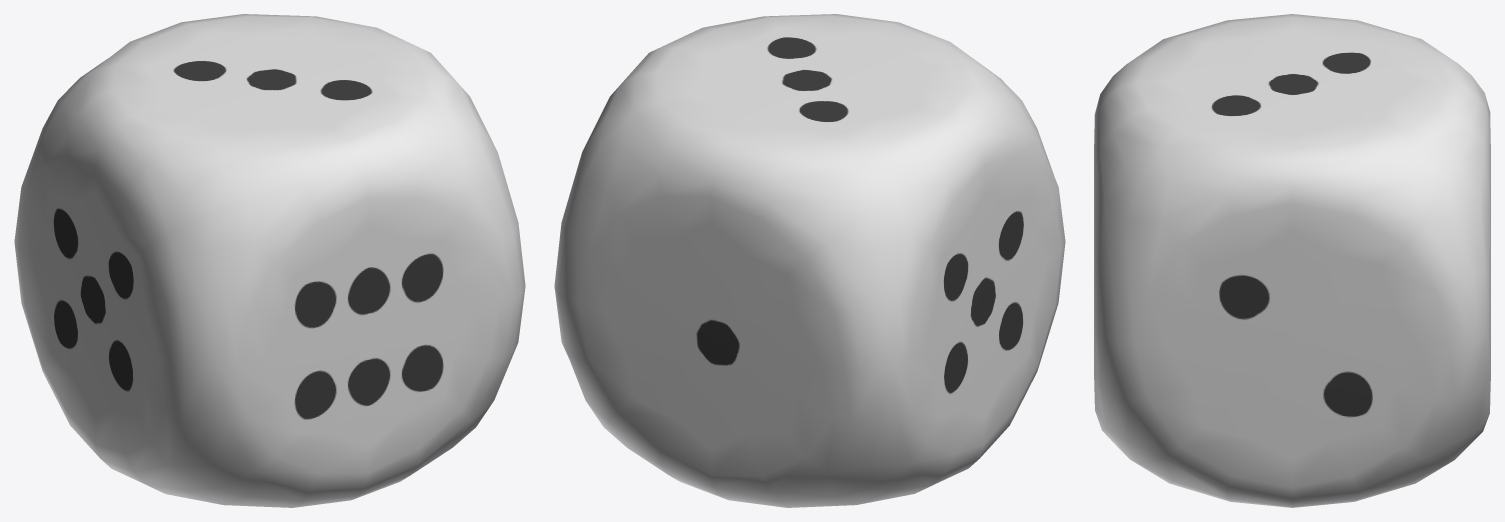
The model's file is Dice_White.fbx.
3 views of the same model, side by side, from view 1: azimuth 30°, elevation 25°; view 2: azimuth 150°, elevation 25°; view 3: azimuth 270°, elevation 25° (orthographic).
Parts seen in each view (by area): view 1: Rounded_Edges_Dice.003; view 2: Rounded_Edges_Dice.003; view 3: Rounded_Edges_Dice.003.
Part boxes in pixels (x1,y1,x2,y2): Rounded_Edges_Dice.003: [14, 14, 525, 507]; Rounded_Edges_Dice.003: [554, 14, 1065, 507]; Rounded_Edges_Dice.003: [1094, 14, 1490, 507].
Bounding box in the file's own units: 200 × 200 × 200.
